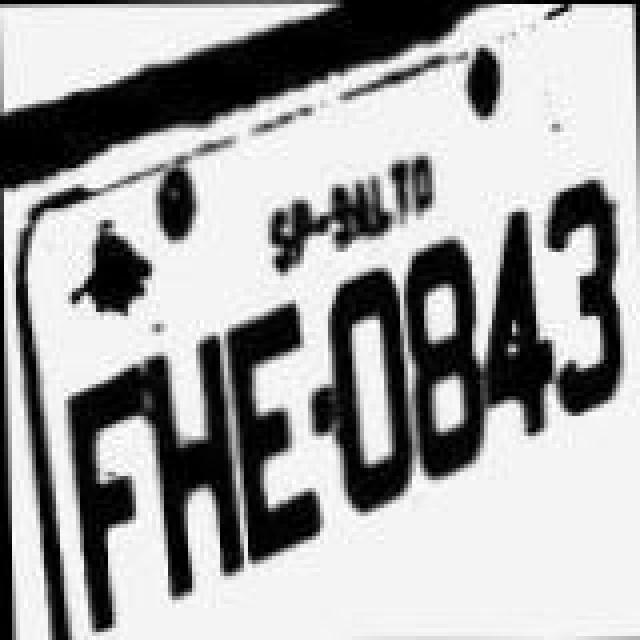3: (542, 178, 634, 430)
4: (474, 200, 558, 452)
8: (402, 236, 486, 492)
E: (222, 296, 318, 564)
F: (62, 352, 154, 632)
H: (140, 336, 244, 600)
O: (326, 258, 414, 514)
